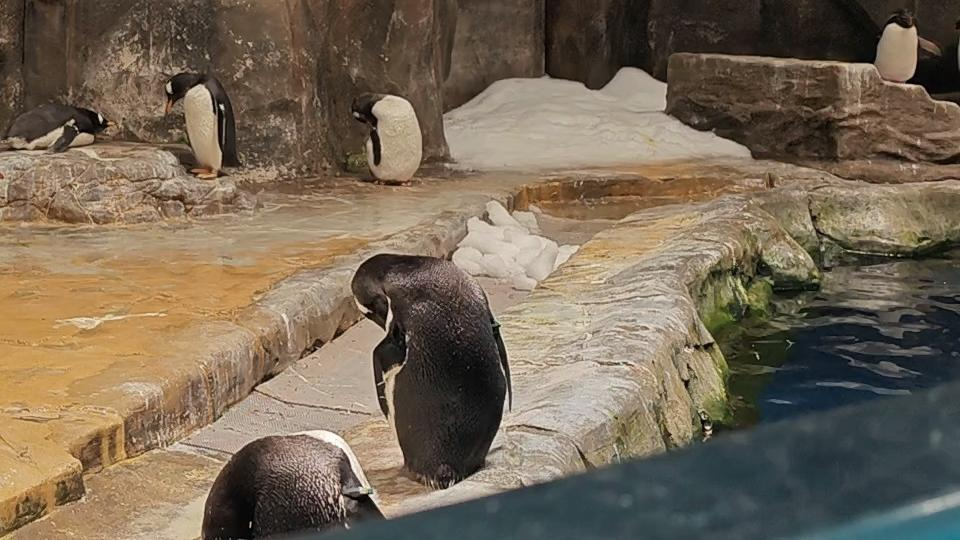Chinstrap Penguin: (869, 14, 942, 84)
Southern Rockhopper Penguin: (860, 3, 945, 100)
